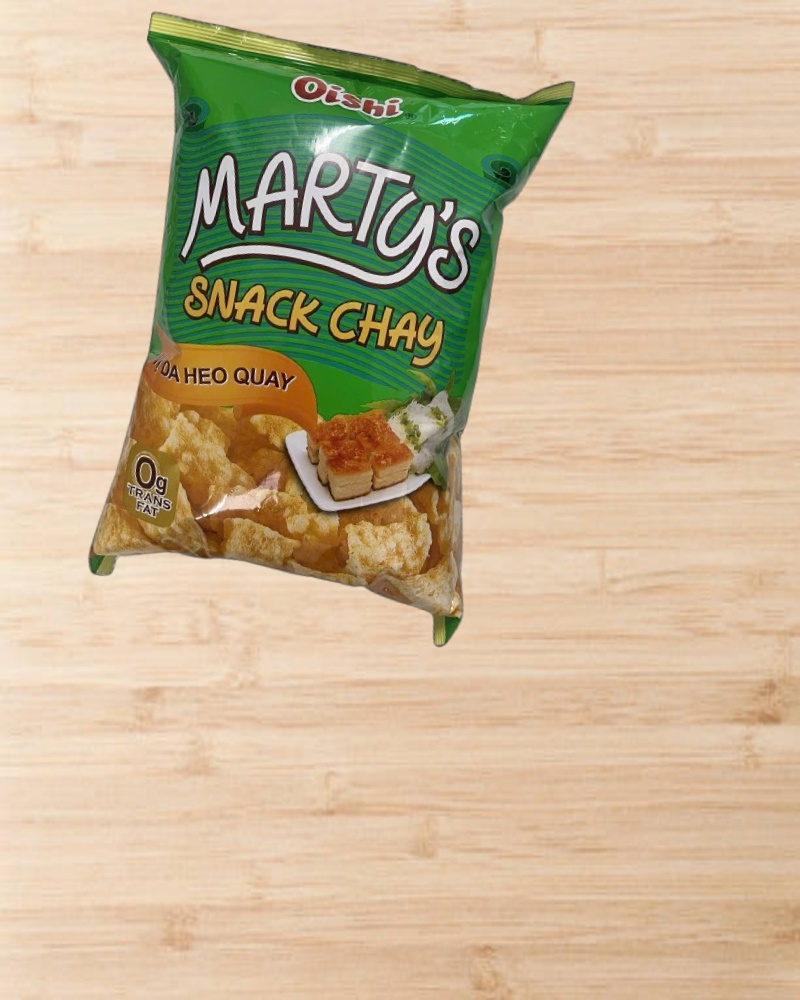Snack chay: (53, 8, 576, 654)
